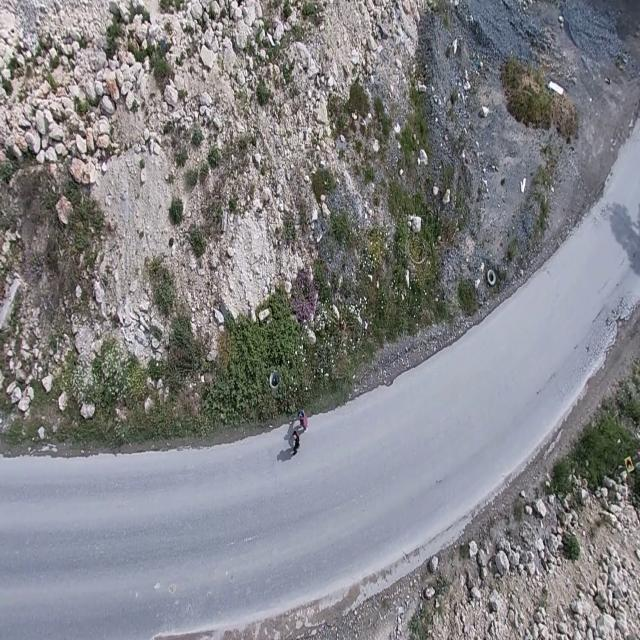vehicle: (298, 408, 308, 432), (290, 430, 300, 454)
